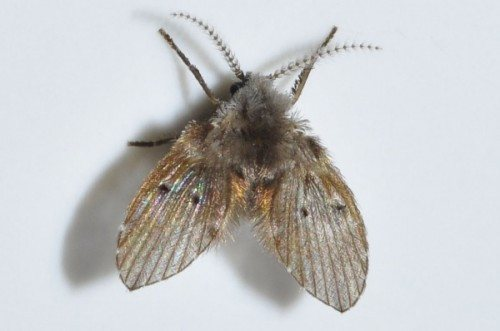phorid fly: (90, 9, 411, 320)
